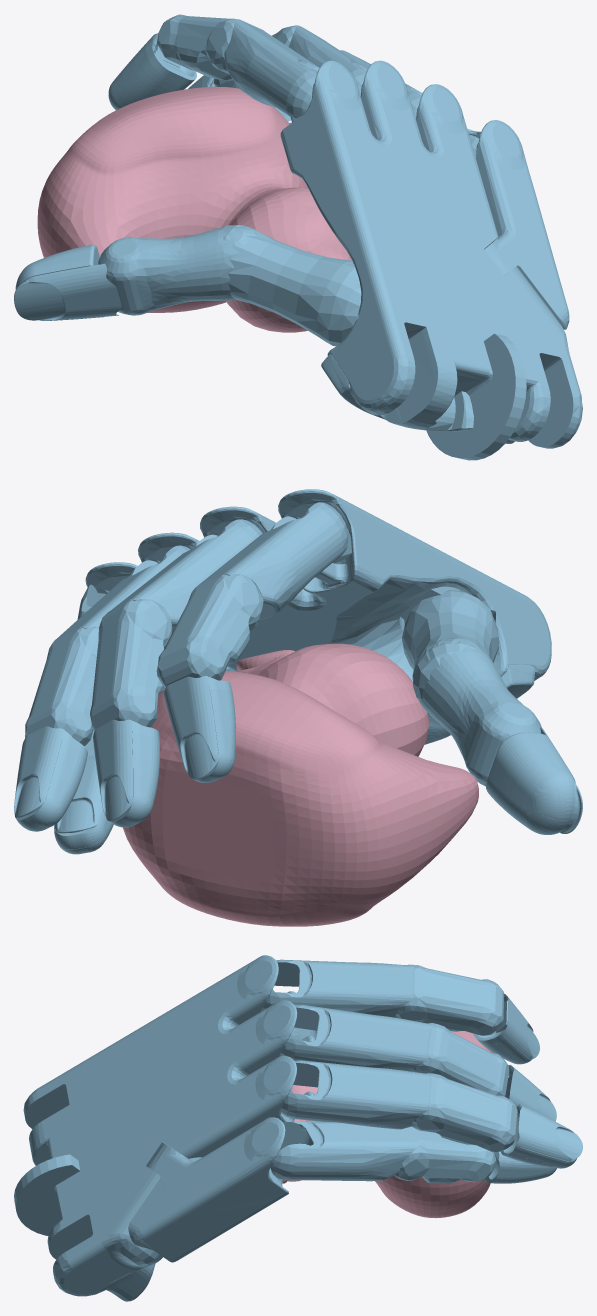
3 views of the same model, one above another, from view 1: azimuth 30°, elevation 25°; view 2: azimuth 150°, elevation 25°; view 3: azimuth 270°, elevation 25° (orthographic). The views are drawn at different scales.
Visible parts, largest first — view 1: world; view 2: world; view 3: world.
Part boxes in pixels (<box>): world: <box>14,14,582,460</box>; world: <box>14,489,582,926</box>; world: <box>14,955,582,1301</box>.
Size of the model in its own units: 0.1621 by 0.1121 by 0.1924.
